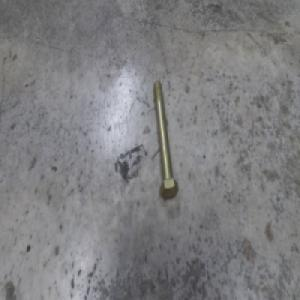Bolt: (152, 79, 178, 202)
